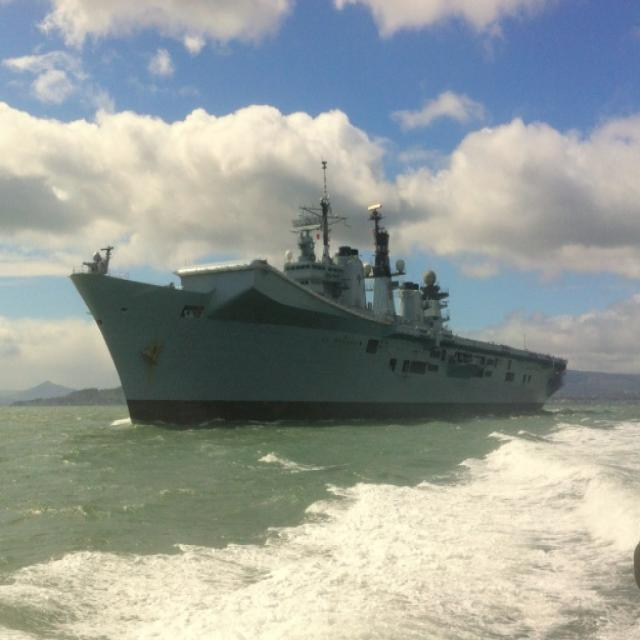Portanaves: (70, 146, 575, 434)
